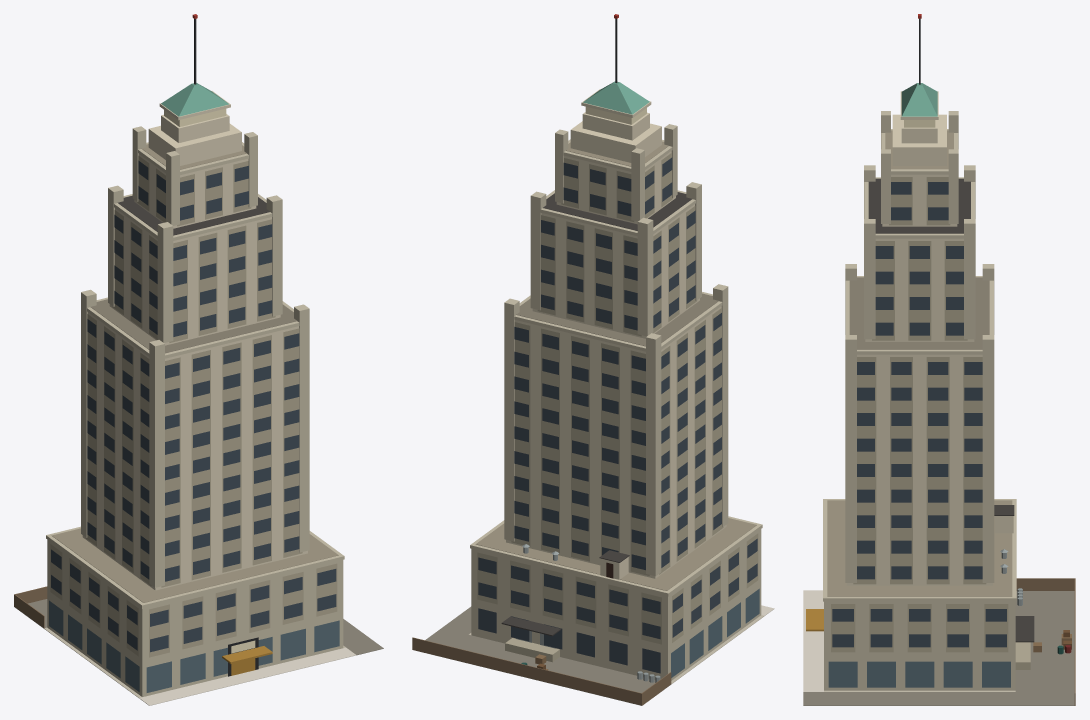
The model's file is glasstower.glb.
3 views of the same model, side by side, from view 1: azimuth 30°, elevation 25°; view 2: azimuth 150°, elevation 25°; view 3: azimuth 270°, elevation 25° (orthographic). The views are drawn at different scales.
Parts seen in each view (by area): view 1: glasstower; view 2: glasstower; view 3: glasstower.
Boxes of the visible parts, bbox=[...] form: glasstower: bbox=[14, 14, 383, 705]; glasstower: bbox=[412, 14, 774, 705]; glasstower: bbox=[803, 14, 1075, 705].
Bounding box in the file's own units: 30 × 76.2 × 30.
